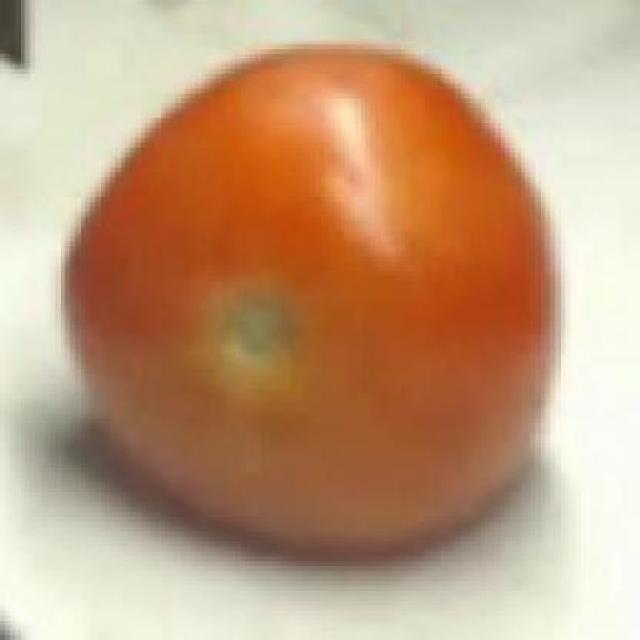tomato: (67, 48, 563, 555)
